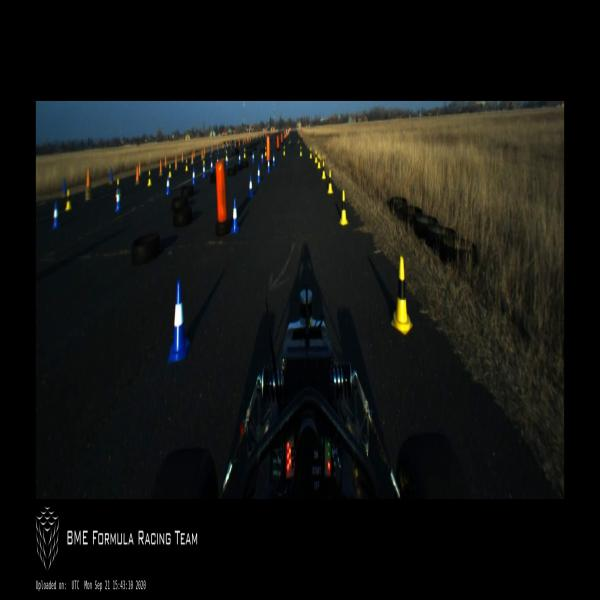blue_cone: (168, 282, 190, 362), (231, 199, 239, 233), (53, 203, 59, 227), (248, 176, 253, 196), (116, 190, 121, 210), (256, 164, 260, 183), (166, 178, 170, 194), (192, 168, 195, 185), (267, 159, 270, 172), (272, 153, 275, 166), (238, 151, 241, 164), (210, 159, 213, 172), (203, 164, 206, 177), (252, 153, 255, 164), (252, 152, 255, 162), (261, 151, 263, 163), (226, 154, 228, 165)
unknown_cone: (85, 168, 91, 190), (135, 166, 139, 184), (159, 159, 163, 176), (138, 161, 142, 174), (164, 154, 167, 168), (175, 156, 177, 169), (191, 151, 193, 164), (181, 150, 183, 162)
yellow_cone: (392, 256, 412, 334), (339, 190, 348, 225), (328, 170, 333, 193), (66, 190, 72, 209), (115, 179, 120, 196), (322, 162, 326, 178), (148, 171, 152, 185), (168, 164, 172, 177), (314, 150, 317, 163), (225, 149, 228, 161), (185, 160, 188, 170), (318, 154, 320, 168), (243, 149, 246, 157), (310, 148, 312, 158), (300, 146, 302, 156), (203, 154, 205, 164), (284, 146, 286, 155), (264, 147, 266, 156)
